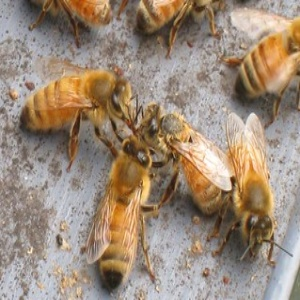bee: (142, 102, 231, 232), (86, 138, 160, 293), (18, 64, 138, 158), (227, 108, 294, 268), (227, 5, 300, 99), (132, 1, 225, 63), (25, 1, 117, 51)
